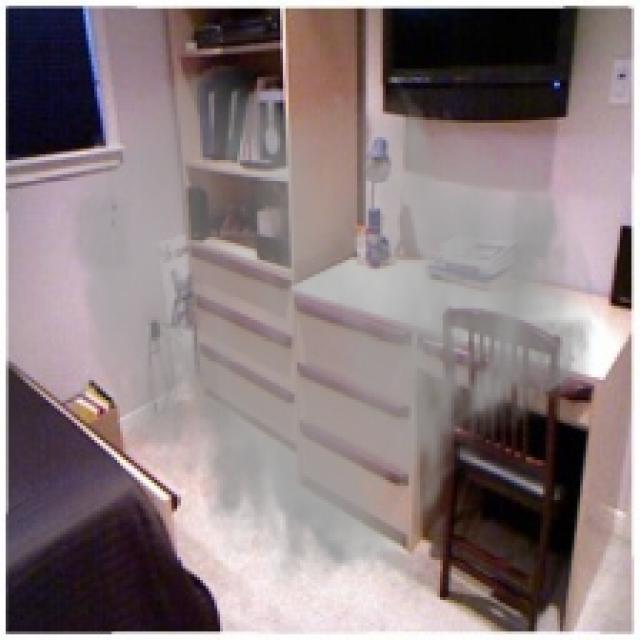Smoke: (57, 60, 600, 606)
